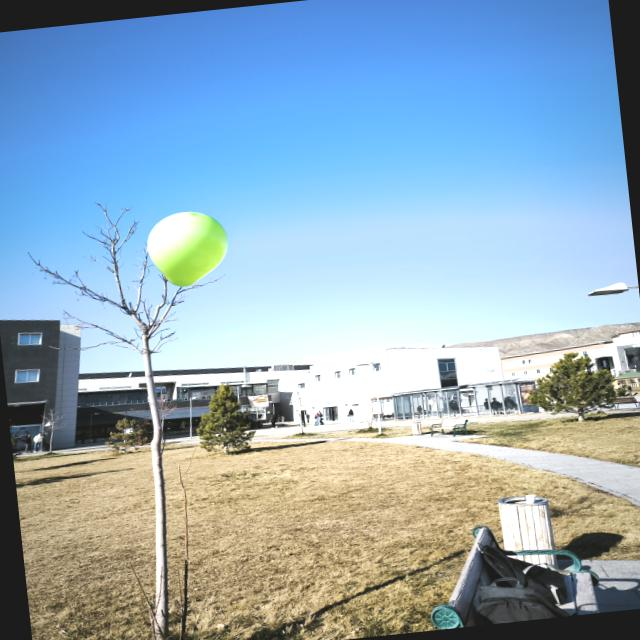balloon: (148, 211, 228, 286)
